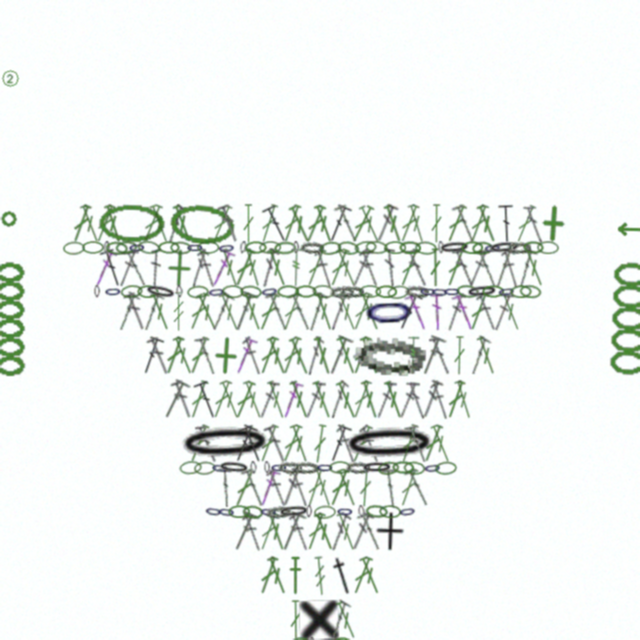chain: (176, 422, 275, 465), (340, 423, 439, 465), (168, 201, 237, 247), (353, 335, 426, 376), (98, 203, 166, 244), (362, 291, 417, 332), (144, 283, 177, 301), (438, 240, 471, 255), (488, 240, 521, 255), (278, 504, 310, 519), (218, 460, 250, 475), (466, 284, 498, 299), (361, 461, 393, 474), (266, 504, 291, 520), (377, 460, 400, 476), (387, 284, 410, 300), (319, 240, 342, 256), (337, 240, 360, 256), (365, 504, 388, 519), (179, 460, 202, 475), (120, 284, 143, 299), (312, 284, 335, 299), (456, 284, 479, 299), (519, 284, 542, 299), (115, 240, 138, 255), (137, 240, 160, 255), (354, 240, 377, 255), (365, 240, 388, 255), (330, 285, 354, 299), (403, 461, 426, 475), (105, 241, 128, 255), (278, 461, 302, 474), (294, 461, 318, 474), (346, 461, 370, 474), (340, 285, 364, 298), (405, 285, 429, 298), (300, 241, 324, 254), (507, 241, 531, 254), (242, 505, 264, 519), (314, 505, 336, 519), (194, 461, 216, 475), (435, 461, 457, 475), (187, 285, 209, 299), (240, 285, 262, 299), (63, 241, 85, 255), (170, 241, 192, 255), (274, 241, 296, 255), (415, 241, 437, 255), (472, 241, 493, 255), (228, 505, 250, 518), (379, 505, 401, 518), (329, 461, 351, 474), (392, 461, 414, 474), (137, 285, 159, 298), (222, 285, 244, 298), (277, 285, 299, 298), (295, 285, 317, 298), (359, 285, 381, 298), (375, 285, 397, 298), (482, 285, 504, 298), (510, 285, 532, 298), (82, 241, 104, 254), (158, 241, 180, 254), (197, 241, 219, 254), (245, 241, 267, 254), (259, 241, 281, 254), (384, 241, 406, 254), (399, 241, 421, 254), (461, 241, 483, 254), (537, 241, 559, 254), (204, 504, 223, 519), (398, 504, 417, 519), (260, 284, 279, 299), (497, 284, 516, 299), (523, 241, 544, 254), (217, 505, 236, 519), (259, 505, 278, 519), (423, 461, 442, 475), (207, 285, 226, 299), (217, 241, 236, 255), (483, 241, 502, 255), (211, 461, 229, 475), (431, 285, 449, 299), (336, 505, 354, 518), (270, 461, 288, 474), (316, 461, 334, 474), (104, 285, 122, 298), (419, 285, 437, 298), (443, 285, 461, 298), (128, 241, 146, 254), (186, 241, 204, 254), (239, 241, 247, 254), (315, 637, 347, 640), (358, 505, 365, 518), (250, 461, 257, 474), (176, 285, 183, 298), (103, 241, 110, 254), (306, 505, 312, 518), (264, 461, 270, 474), (94, 285, 100, 298), (293, 241, 299, 254), (438, 241, 444, 254), (290, 637, 311, 640), (275, 637, 293, 640), (309, 637, 316, 640)
double: (159, 379, 191, 421), (229, 511, 260, 553), (261, 203, 292, 245), (277, 511, 307, 553), (324, 335, 354, 377), (417, 335, 447, 377), (394, 291, 424, 333), (230, 423, 259, 465), (238, 423, 267, 465), (230, 291, 259, 333), (324, 203, 353, 245), (207, 291, 236, 332), (121, 247, 150, 288), (325, 423, 353, 465), (193, 379, 221, 421), (403, 467, 431, 508), (138, 335, 165, 377), (99, 247, 126, 289), (193, 292, 221, 332), (208, 248, 236, 288), (286, 204, 314, 244), (348, 204, 376, 244), (356, 204, 384, 244), (356, 511, 383, 552), (114, 291, 141, 332), (286, 291, 313, 332), (473, 247, 500, 288), (333, 203, 360, 244), (333, 600, 360, 640), (348, 512, 375, 552), (231, 468, 258, 508), (263, 424, 290, 464), (348, 424, 375, 464), (231, 380, 258, 420), (333, 380, 360, 420), (146, 336, 173, 376), (286, 336, 313, 376), (216, 292, 243, 332), (255, 292, 282, 332), (91, 248, 118, 288), (231, 248, 258, 288), (333, 248, 360, 288), (208, 204, 235, 244), (302, 204, 329, 244), (512, 204, 539, 244), (326, 599, 352, 640), (264, 555, 290, 596), (349, 555, 375, 596), (357, 555, 383, 596), (311, 511, 337, 552), (240, 467, 266, 508), (326, 467, 352, 508), (334, 467, 360, 508), (186, 423, 212, 464), (279, 423, 305, 464), (404, 423, 430, 464), (420, 423, 446, 464), (428, 423, 454, 464), (170, 379, 196, 420), (209, 379, 235, 420), (217, 379, 243, 420), (240, 379, 266, 420), (170, 335, 196, 376), (186, 335, 212, 376), (232, 335, 258, 376), (264, 335, 290, 376), (466, 335, 492, 376), (123, 291, 149, 332), (139, 291, 165, 332), (147, 291, 173, 332), (186, 291, 212, 332), (264, 291, 290, 332), (303, 291, 329, 332), (334, 291, 360, 332), (349, 291, 375, 332), (357, 291, 383, 332), (404, 291, 430, 332), (451, 291, 477, 332), (498, 291, 524, 332), (264, 247, 290, 288), (303, 247, 329, 288), (326, 247, 352, 288), (396, 247, 422, 288), (490, 247, 516, 288), (521, 247, 547, 288), (77, 203, 103, 244), (92, 203, 118, 244), (139, 203, 165, 244), (373, 203, 399, 244), (396, 203, 422, 244), (443, 203, 469, 244), (451, 203, 477, 244), (474, 203, 500, 244), (326, 512, 352, 552), (256, 555, 281, 596), (256, 511, 281, 552), (264, 511, 289, 552), (303, 511, 328, 552), (334, 511, 359, 552), (256, 467, 281, 508), (279, 467, 304, 508), (396, 467, 421, 508), (256, 423, 281, 464), (287, 423, 312, 464), (186, 379, 211, 420), (264, 379, 289, 420), (279, 379, 304, 420), (287, 379, 312, 420), (310, 379, 335, 420), (349, 379, 374, 420), (381, 379, 406, 420), (419, 379, 444, 420), (443, 379, 468, 420), (162, 335, 187, 376), (194, 335, 219, 376), (256, 335, 281, 376), (279, 335, 304, 376), (334, 335, 359, 376), (349, 335, 374, 376), (357, 335, 382, 376), (474, 335, 499, 376), (240, 291, 265, 332), (279, 291, 304, 332), (466, 291, 491, 332), (443, 247, 468, 288), (69, 203, 94, 244), (147, 203, 172, 244), (170, 203, 195, 244), (217, 203, 242, 244), (279, 203, 304, 244), (311, 203, 336, 244), (381, 203, 406, 244), (466, 203, 491, 244), (303, 467, 327, 508), (311, 467, 335, 508), (397, 423, 421, 464), (358, 379, 382, 420), (311, 335, 335, 376), (312, 291, 336, 332), (218, 247, 242, 288), (514, 247, 538, 288), (101, 203, 125, 244), (257, 203, 281, 244), (163, 204, 187, 244), (452, 379, 475, 420), (241, 247, 264, 288), (405, 203, 428, 244), (265, 468, 289, 507), (358, 424, 382, 463), (327, 292, 351, 331), (475, 292, 499, 331), (350, 248, 374, 287), (241, 512, 264, 552), (195, 424, 218, 464), (257, 248, 280, 288), (405, 248, 428, 288), (452, 248, 475, 288), (288, 512, 311, 551), (288, 468, 311, 507), (335, 424, 358, 463), (257, 380, 280, 419), (303, 380, 326, 419), (327, 380, 350, 419), (374, 380, 397, 419), (397, 380, 420, 419), (241, 336, 264, 375), (358, 248, 381, 287), (467, 248, 490, 287), (429, 380, 451, 420), (429, 336, 451, 376), (492, 292, 514, 332), (117, 248, 139, 288), (188, 248, 210, 288), (196, 248, 218, 288), (313, 248, 335, 288), (523, 204, 545, 244), (406, 380, 427, 420), (304, 336, 325, 376), (445, 292, 466, 332), (500, 248, 521, 288), (311, 424, 329, 464), (381, 468, 398, 508), (498, 204, 515, 243), (218, 468, 233, 507), (358, 468, 373, 507), (430, 292, 444, 331), (289, 600, 302, 639), (453, 336, 466, 375), (429, 248, 442, 287), (242, 204, 255, 243), (430, 204, 443, 243), (384, 248, 396, 287), (150, 248, 161, 287)
enseble_chain: (606, 261, 640, 378), (0, 261, 29, 379)
half_double: (327, 554, 358, 597), (288, 556, 303, 595)
noise: (0, 68, 21, 89), (0, 208, 19, 229), (615, 222, 640, 236)
single: (205, 335, 246, 376), (533, 203, 574, 244), (299, 600, 339, 640), (159, 248, 199, 288), (374, 512, 405, 551)
treble: (312, 556, 328, 596), (406, 336, 420, 375), (289, 248, 303, 287), (172, 292, 185, 331)
